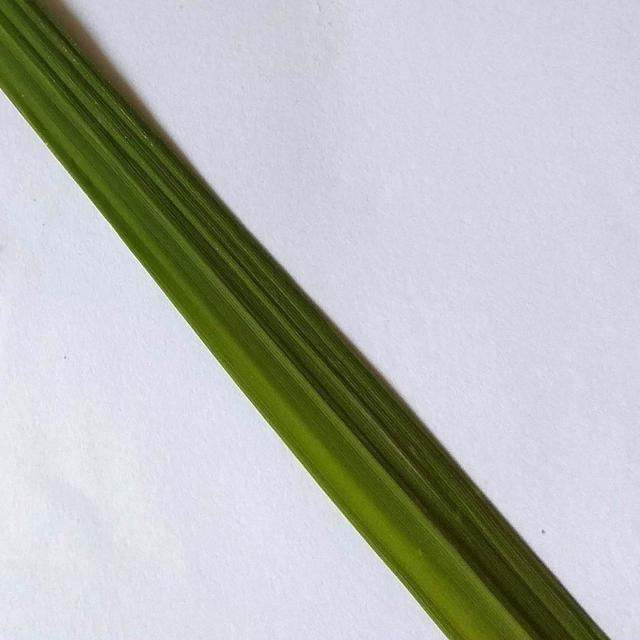Rice_Healthy: (0, 0, 609, 640)
